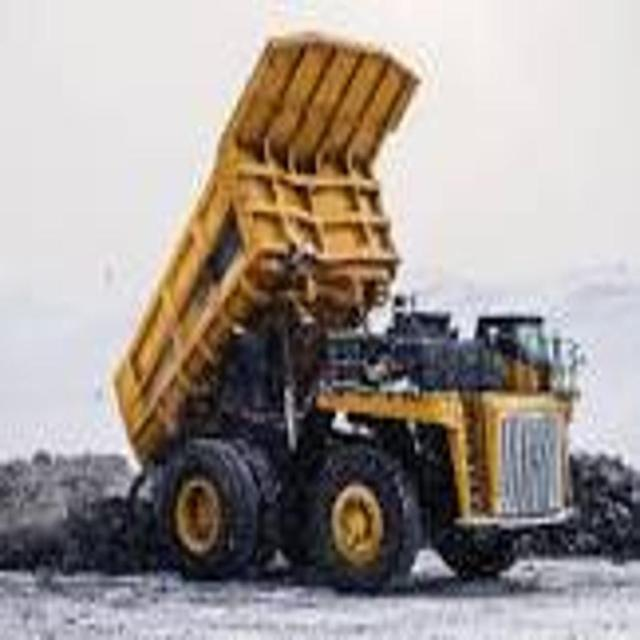dump_truck: (106, 21, 584, 589)
